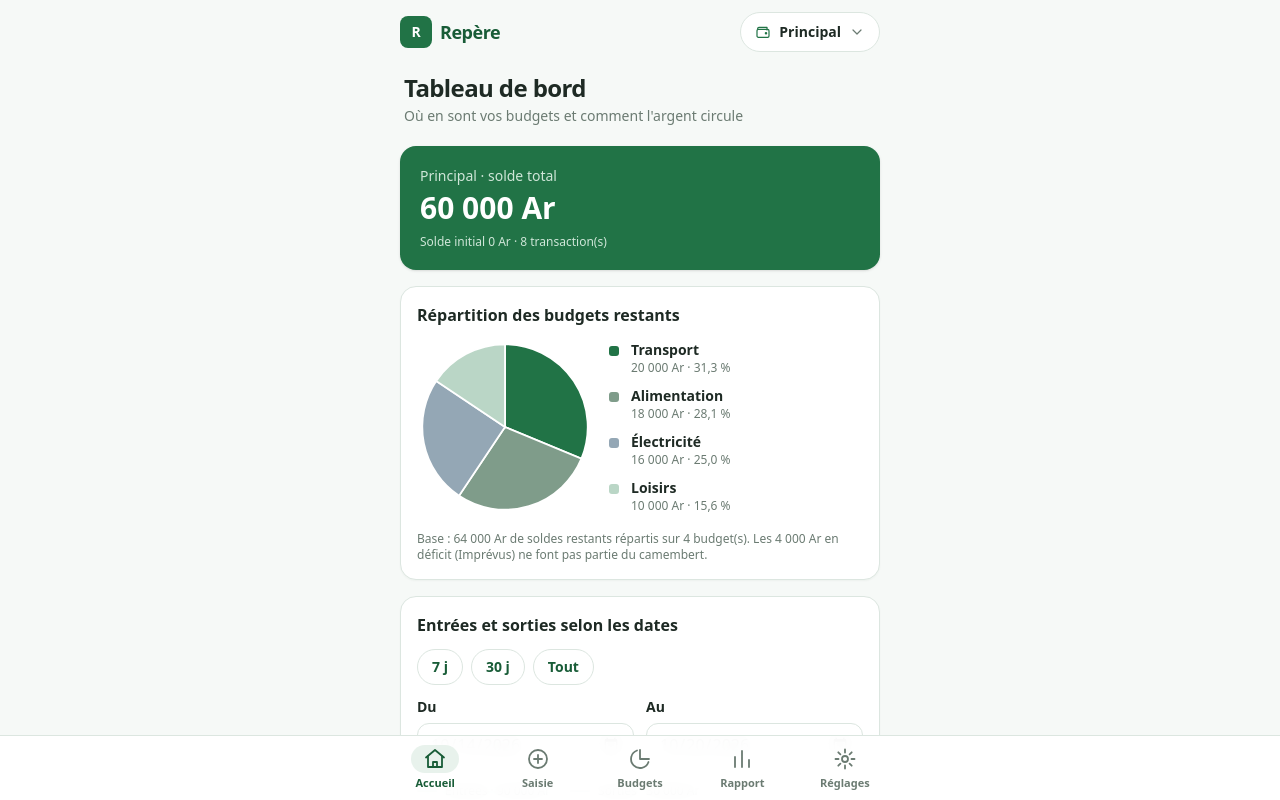
saisie : transactions du jour › navigation de jour en jour
The image size is (1280, 800).
Click the button "Saisie" at (538, 768), box [486,736,589,799]
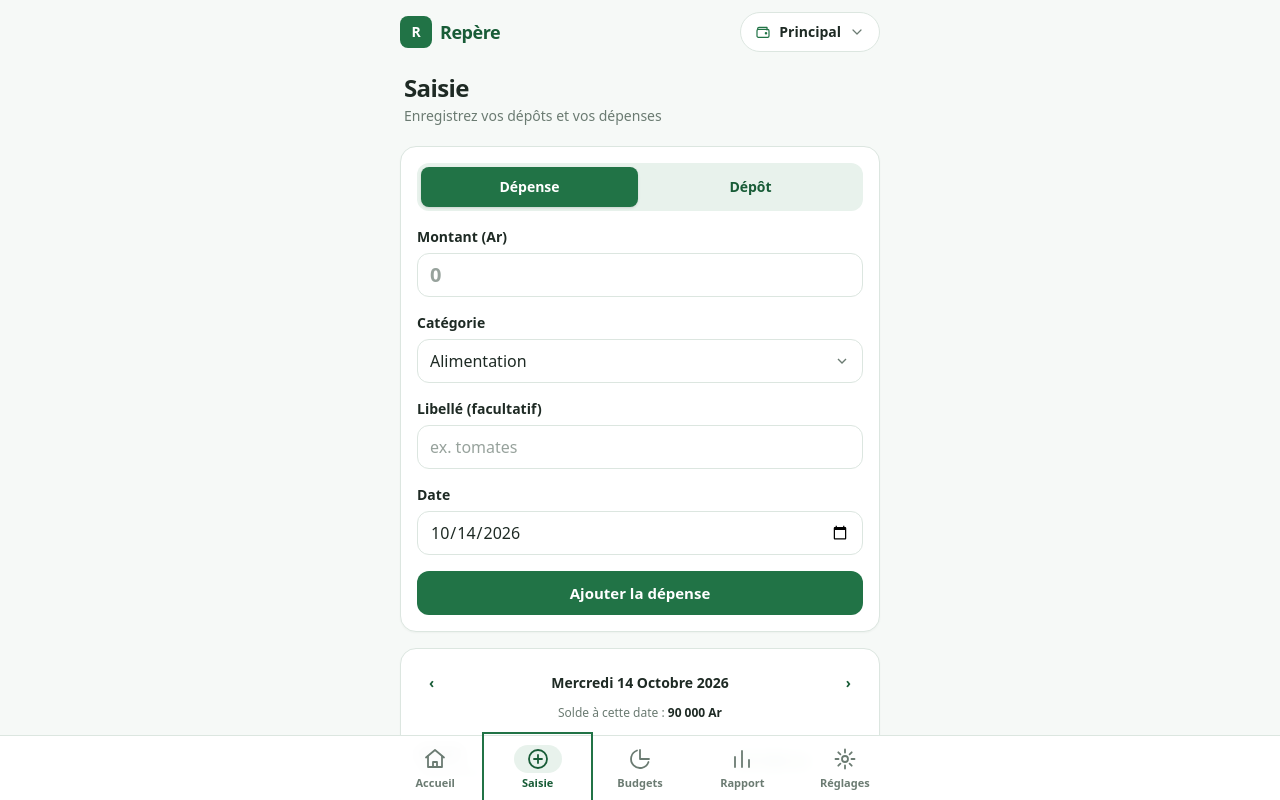
expect the heading "mercredi 14 octobre 2026" is shown: met, box [551,673,729,693]
Click the button named "Jour suivant" at (848, 683), box [834,665,863,701]
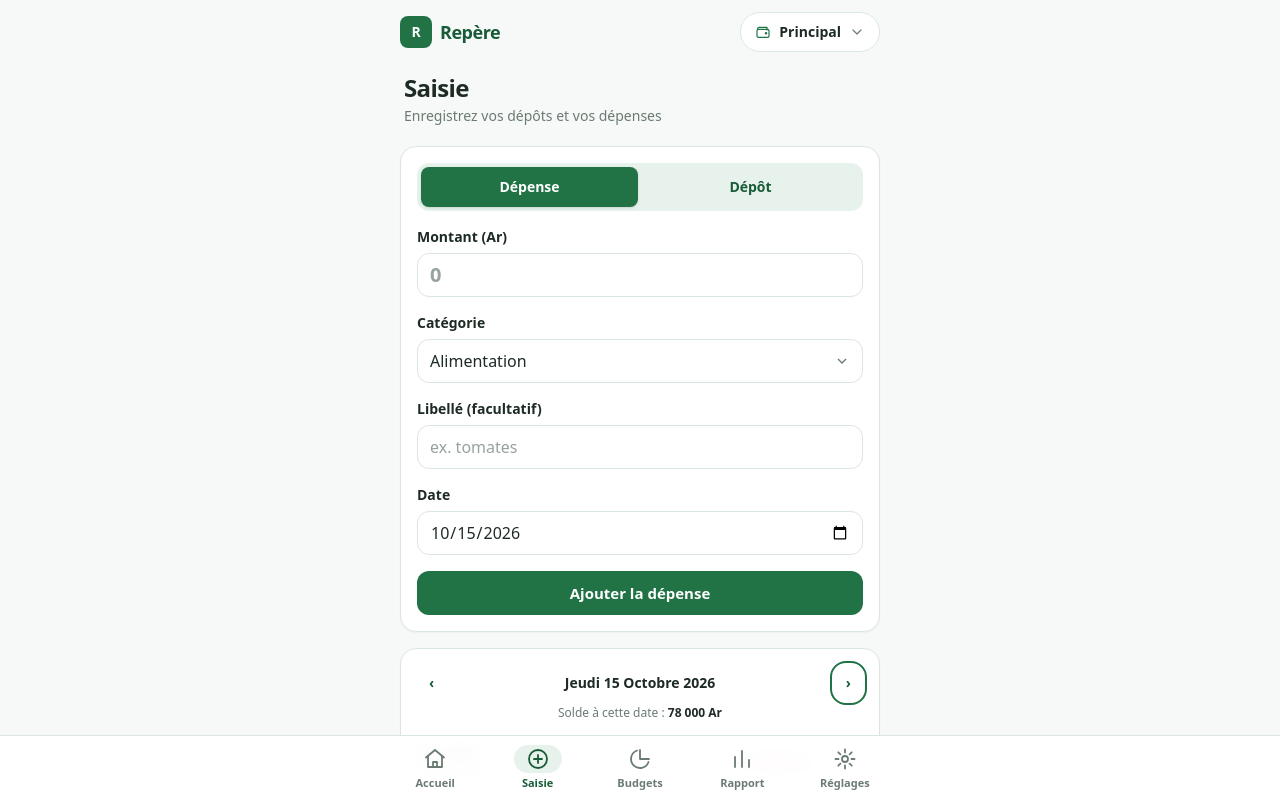
expect the heading "jeudi 15 octobre 2026" is shown: met, box [565,673,715,693]
